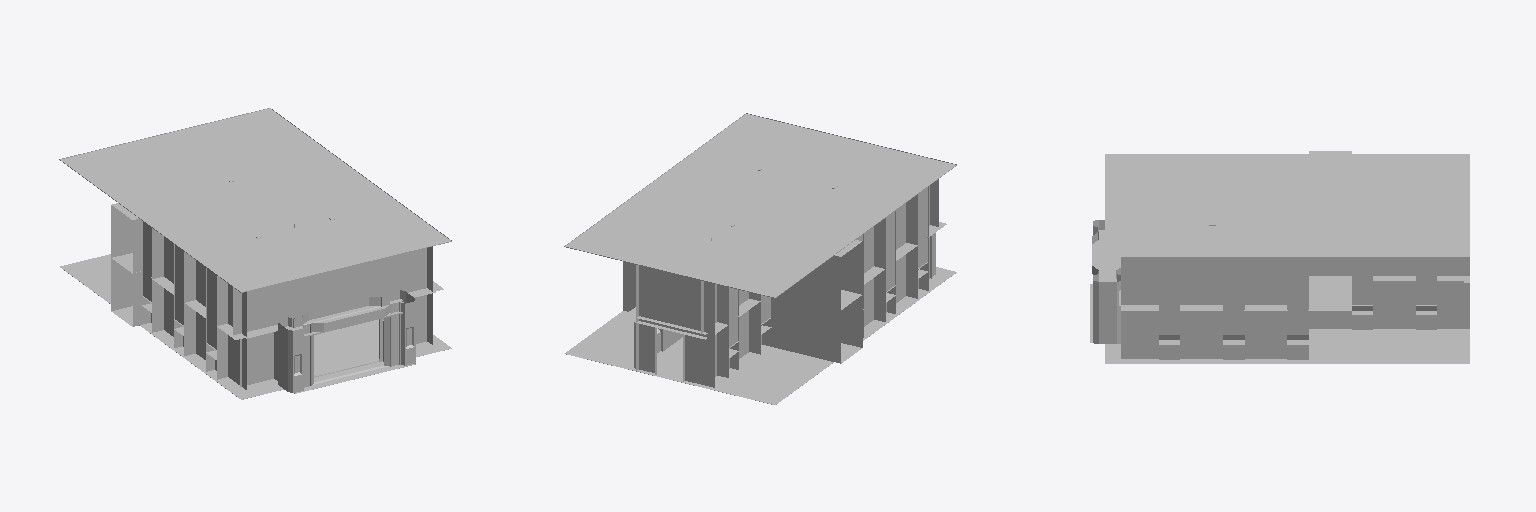
Rendered from RZ_room1_endroom.obj.
The picture shows the model from 3 angles: view 1: azimuth 30°, elevation 25°; view 2: azimuth 150°, elevation 25°; view 3: azimuth 270°, elevation 25°; orthographic projection.
Parts seen in each view (by area): view 1: endroom; view 2: endroom; view 3: endroom.
Boxes of the visible parts, x1,y1,x2,y2 form: endroom: [59, 108, 451, 399]; endroom: [564, 113, 956, 404]; endroom: [1090, 151, 1469, 363].
Bounding box in the file's own units: 15.04 × 7.28 × 22.64.